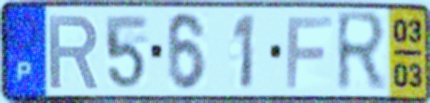1: (227, 12, 258, 92)
5: (103, 13, 151, 91)
6: (165, 11, 212, 94)
F: (283, 14, 335, 91)
R: (333, 8, 390, 96), (46, 12, 102, 91)
